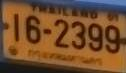letters: (25, 15, 42, 44), (53, 19, 70, 48), (71, 21, 87, 50), (88, 23, 104, 52), (105, 25, 121, 54), (12, 14, 20, 42)
province: (28, 49, 102, 65)
